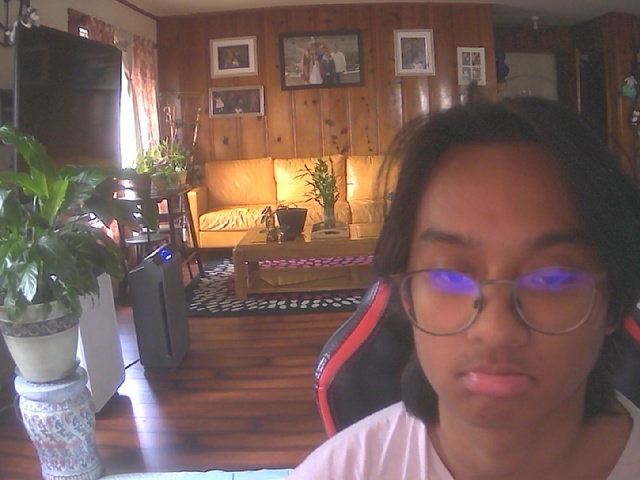sad: (384, 113, 625, 432)
